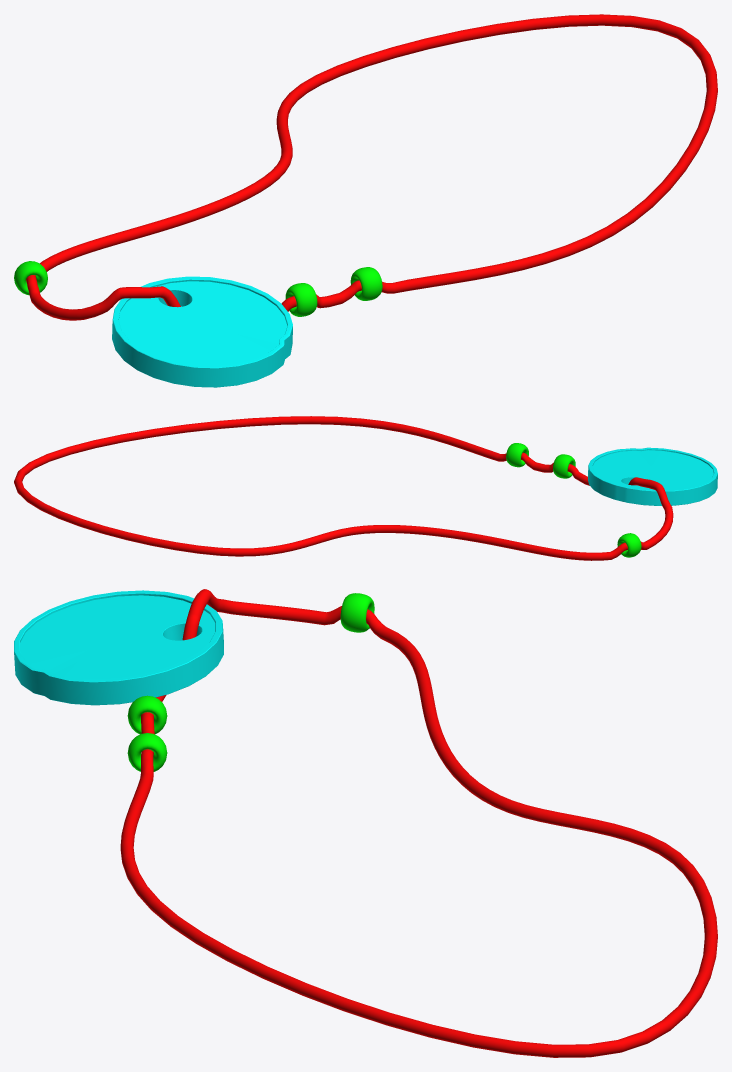
File: talisman_lowpoly.fbx
The picture shows the model from 3 angles, top to bottom: view 1: azimuth 30°, elevation 25°; view 2: azimuth 150°, elevation 25°; view 3: azimuth 270°, elevation 25°; orthographic projection. The views are drawn at different scales.
Parts seen in each view (by area): view 1: cord, pendant, bead1, bead3, bead2; view 2: cord, pendant, bead2, bead1, bead3; view 3: cord, pendant, bead2, bead3, bead1.
Part boxes in pixels (left/top/right/bottom): cord: left=26, top=14, right=717, bottom=320; pendant: left=112, top=276, right=292, bottom=387; bead1: left=285, top=283, right=317, bottom=316; bead3: left=350, top=267, right=382, bottom=300; bead2: left=14, top=261, right=47, bottom=295; cord: left=14, top=416, right=673, bottom=560; pendant: left=588, top=447, right=717, bottom=505; bead2: left=617, top=533, right=641, bottom=557; bead1: left=553, top=454, right=575, bottom=478; bead3: left=506, top=443, right=528, bottom=467; cord: left=120, top=589, right=717, bottom=1057; pendant: left=14, top=590, right=223, bottom=705; bead2: left=340, top=593, right=374, bottom=632; bead3: left=127, top=733, right=167, bottom=771; bead1: left=127, top=695, right=167, bottom=734.
Bounding box in the file's own units: 78.6 × 4.62 × 53.27.
